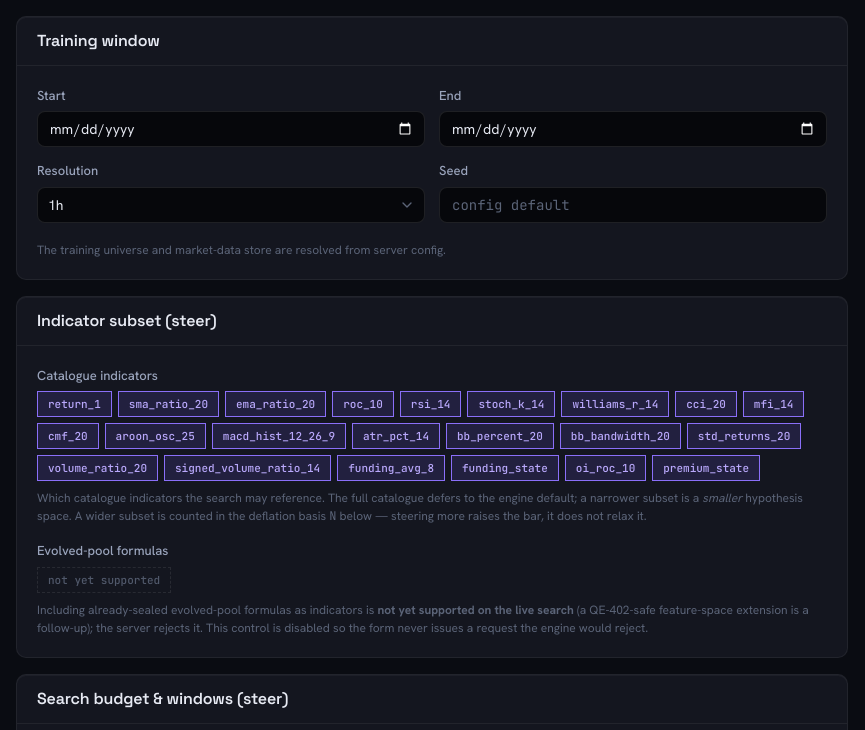
Test: NewTraining › blocks a windows value below the compiled floor and does not POST
In the date field labelled "Start": (231, 129) left=48, top=112, right=414, bottom=146, type "2021-01-01"
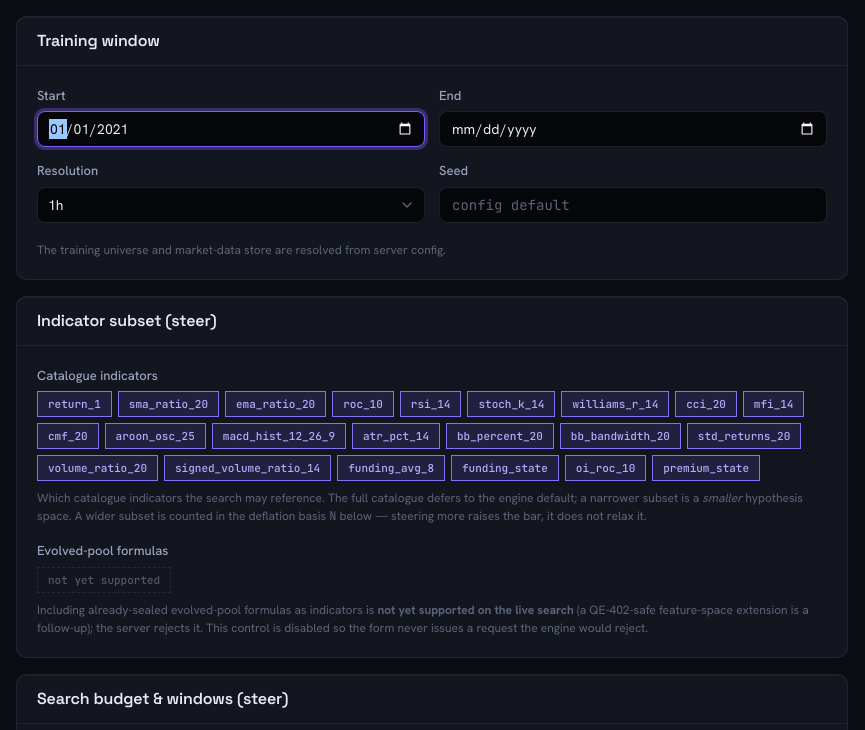
In the date field labelled "End": (633, 129) left=450, top=112, right=816, bottom=146, type "2021-02-01"
(page scrolled)
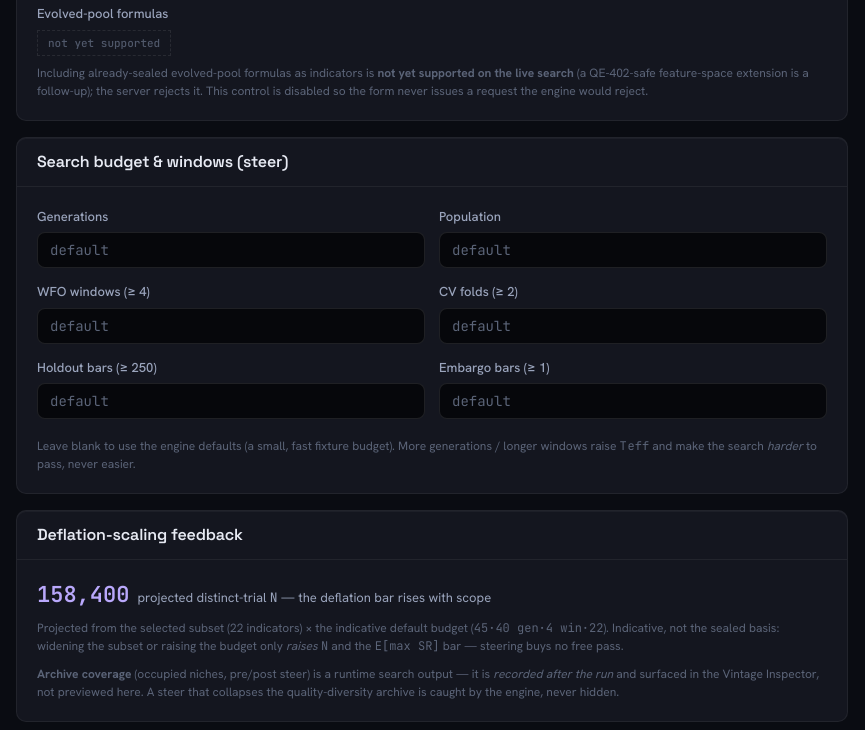
In the field labelled "WFO windows (≥ 4)": (231, 326) left=48, top=309, right=414, bottom=343, type "2"
(page scrolled)
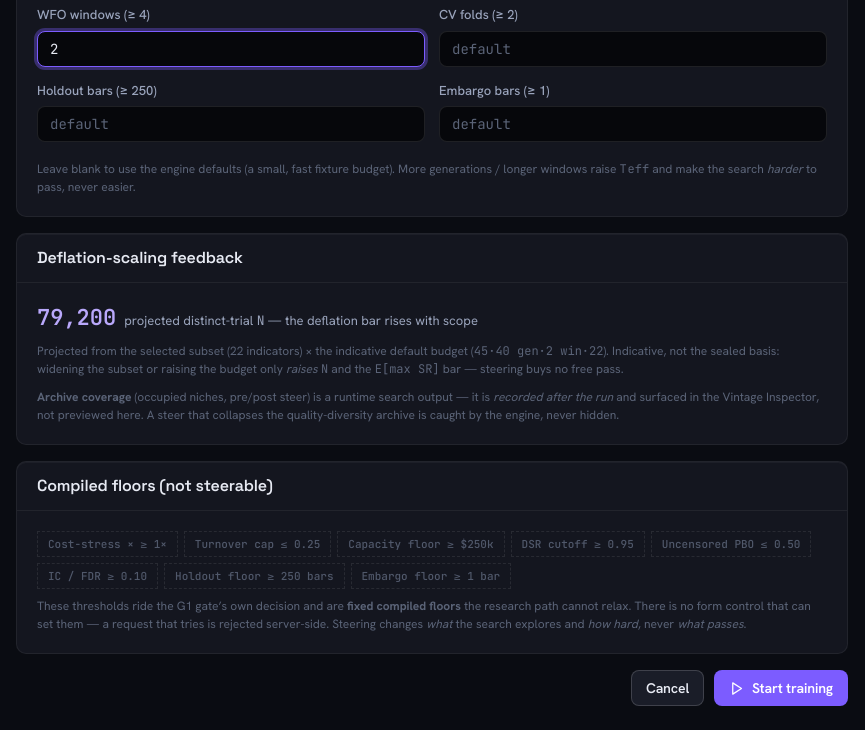
Click the button "Start training": (781, 688) left=714, top=670, right=848, bottom=706
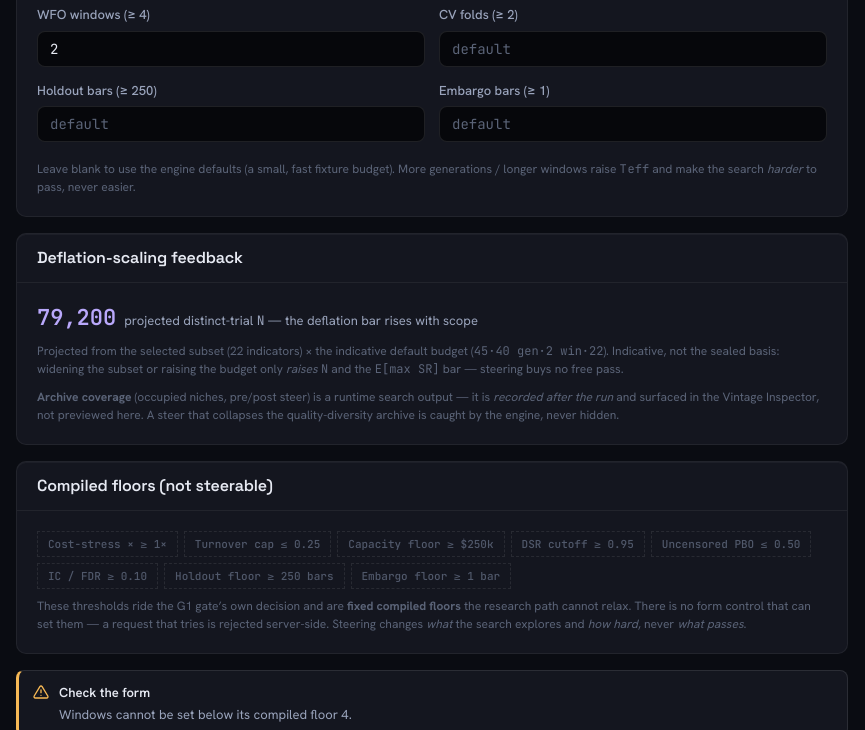
Expected: the text "compiled floor 4" is shown, left=59, top=706, right=352, bottom=723
